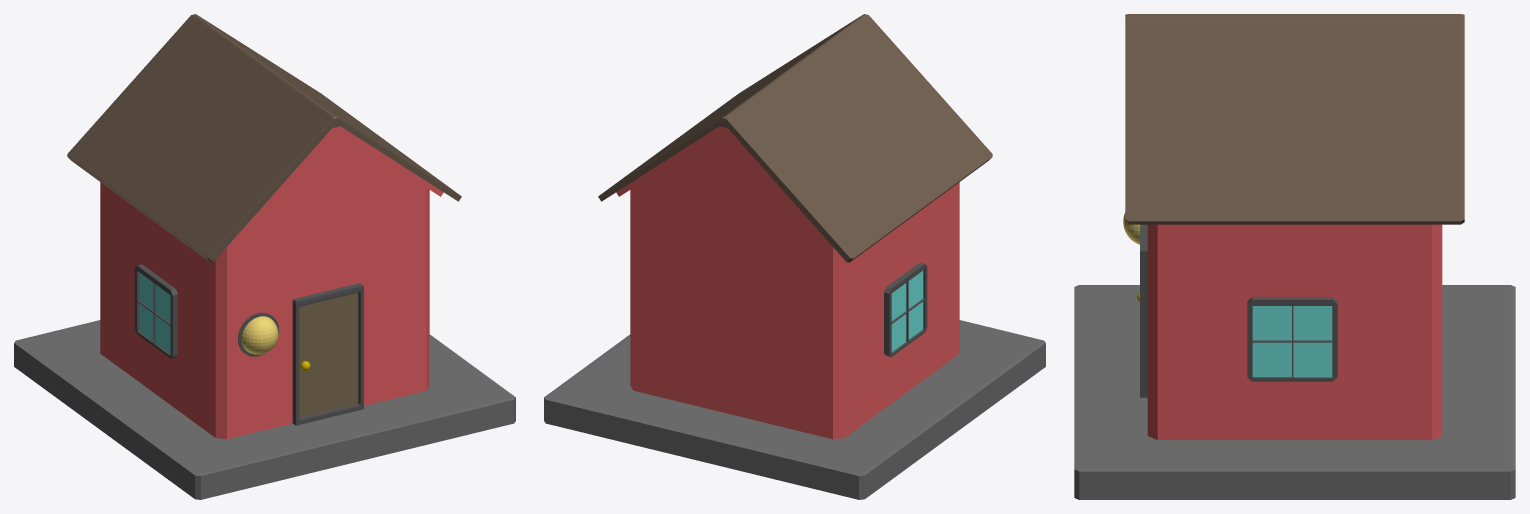
Rendered from house.fbx.
3 views of the same model, side by side, from view 1: azimuth 30°, elevation 25°; view 2: azimuth 150°, elevation 25°; view 3: azimuth 270°, elevation 25° (orthographic). The views are drawn at different scales.
Visible parts, largest first — view 1: HouseFrame, Roof, Base, DoorInside, Door, Window, Light; view 2: HouseFrame, Roof, Base, Window; view 3: Roof, HouseFrame, Base, Window2, Cube.004, Cube.005, Cube.006, Cube.007, Door.
Boxes of the visible parts, x1,y1,x2,y2 form: HouseFrame: (100, 126, 443, 439); Roof: (67, 14, 461, 262); Base: (14, 320, 515, 499); DoorInside: (299, 292, 358, 417); Door: (292, 283, 363, 425); Window: (134, 264, 177, 358); Light: (241, 316, 278, 354); HouseFrame: (616, 126, 959, 439); Roof: (598, 14, 992, 262); Base: (544, 320, 1045, 499); Window: (884, 263, 927, 357); Roof: (1125, 14, 1464, 224); HouseFrame: (1147, 224, 1442, 439); Base: (1074, 285, 1515, 499); Window2: (1247, 297, 1337, 381); Cube.004: (1293, 342, 1332, 377); Cube.005: (1293, 306, 1332, 340); Cube.006: (1252, 306, 1291, 340); Cube.007: (1252, 342, 1291, 376); Door: (1140, 224, 1147, 397).
Bounding box in the file's own units: 300 × 294 × 300.
